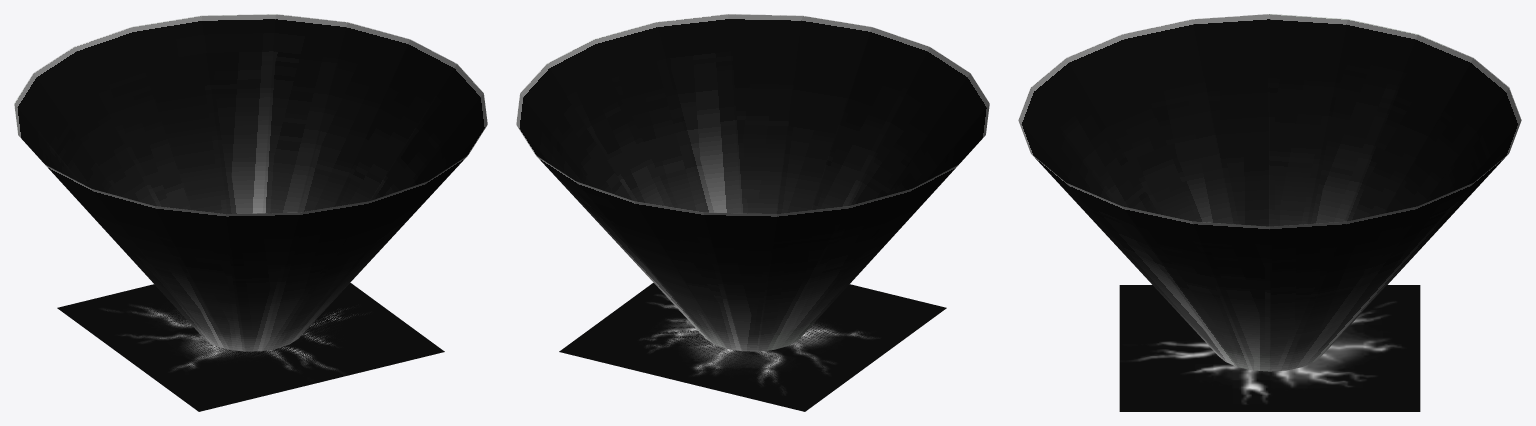
Rendered from redcritical_hit.fbx.
3 renders of one model, left to right at view 1: azimuth 30°, elevation 25°; view 2: azimuth 150°, elevation 25°; view 3: azimuth 270°, elevation 25°, orthographic. The views are drawn at different scales.
Visible parts, largest first — view 1: cone 10, ring 1, ring; view 2: cone 10, ring 1, ring; view 3: cone 10, ring 1.
Boxes of the visible parts, bbox=[...] form: cone 10: bbox=[14, 14, 487, 351]; ring 1: bbox=[57, 283, 444, 411]; ring: bbox=[77, 288, 430, 405]; cone 10: bbox=[516, 14, 989, 351]; ring 1: bbox=[559, 283, 946, 411]; ring: bbox=[572, 288, 932, 405]; cone 10: bbox=[1018, 14, 1521, 371]; ring 1: bbox=[1119, 285, 1420, 411].
Size of the model in its own units: 4 by 2 by 4.
3 materials, 3 textured.
